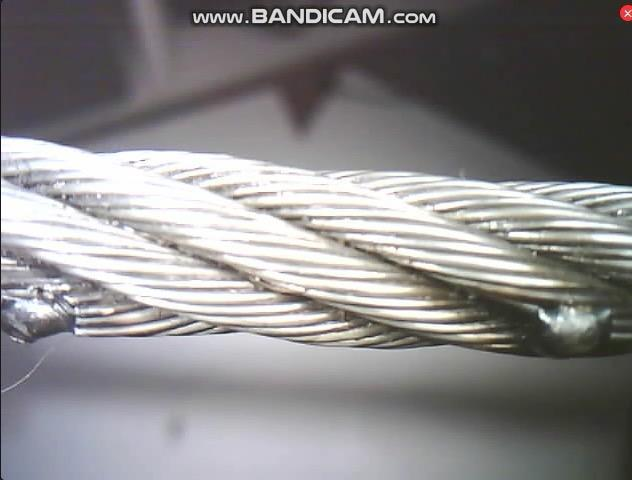thunderbolt: (0, 293, 132, 347), (513, 296, 621, 355)
